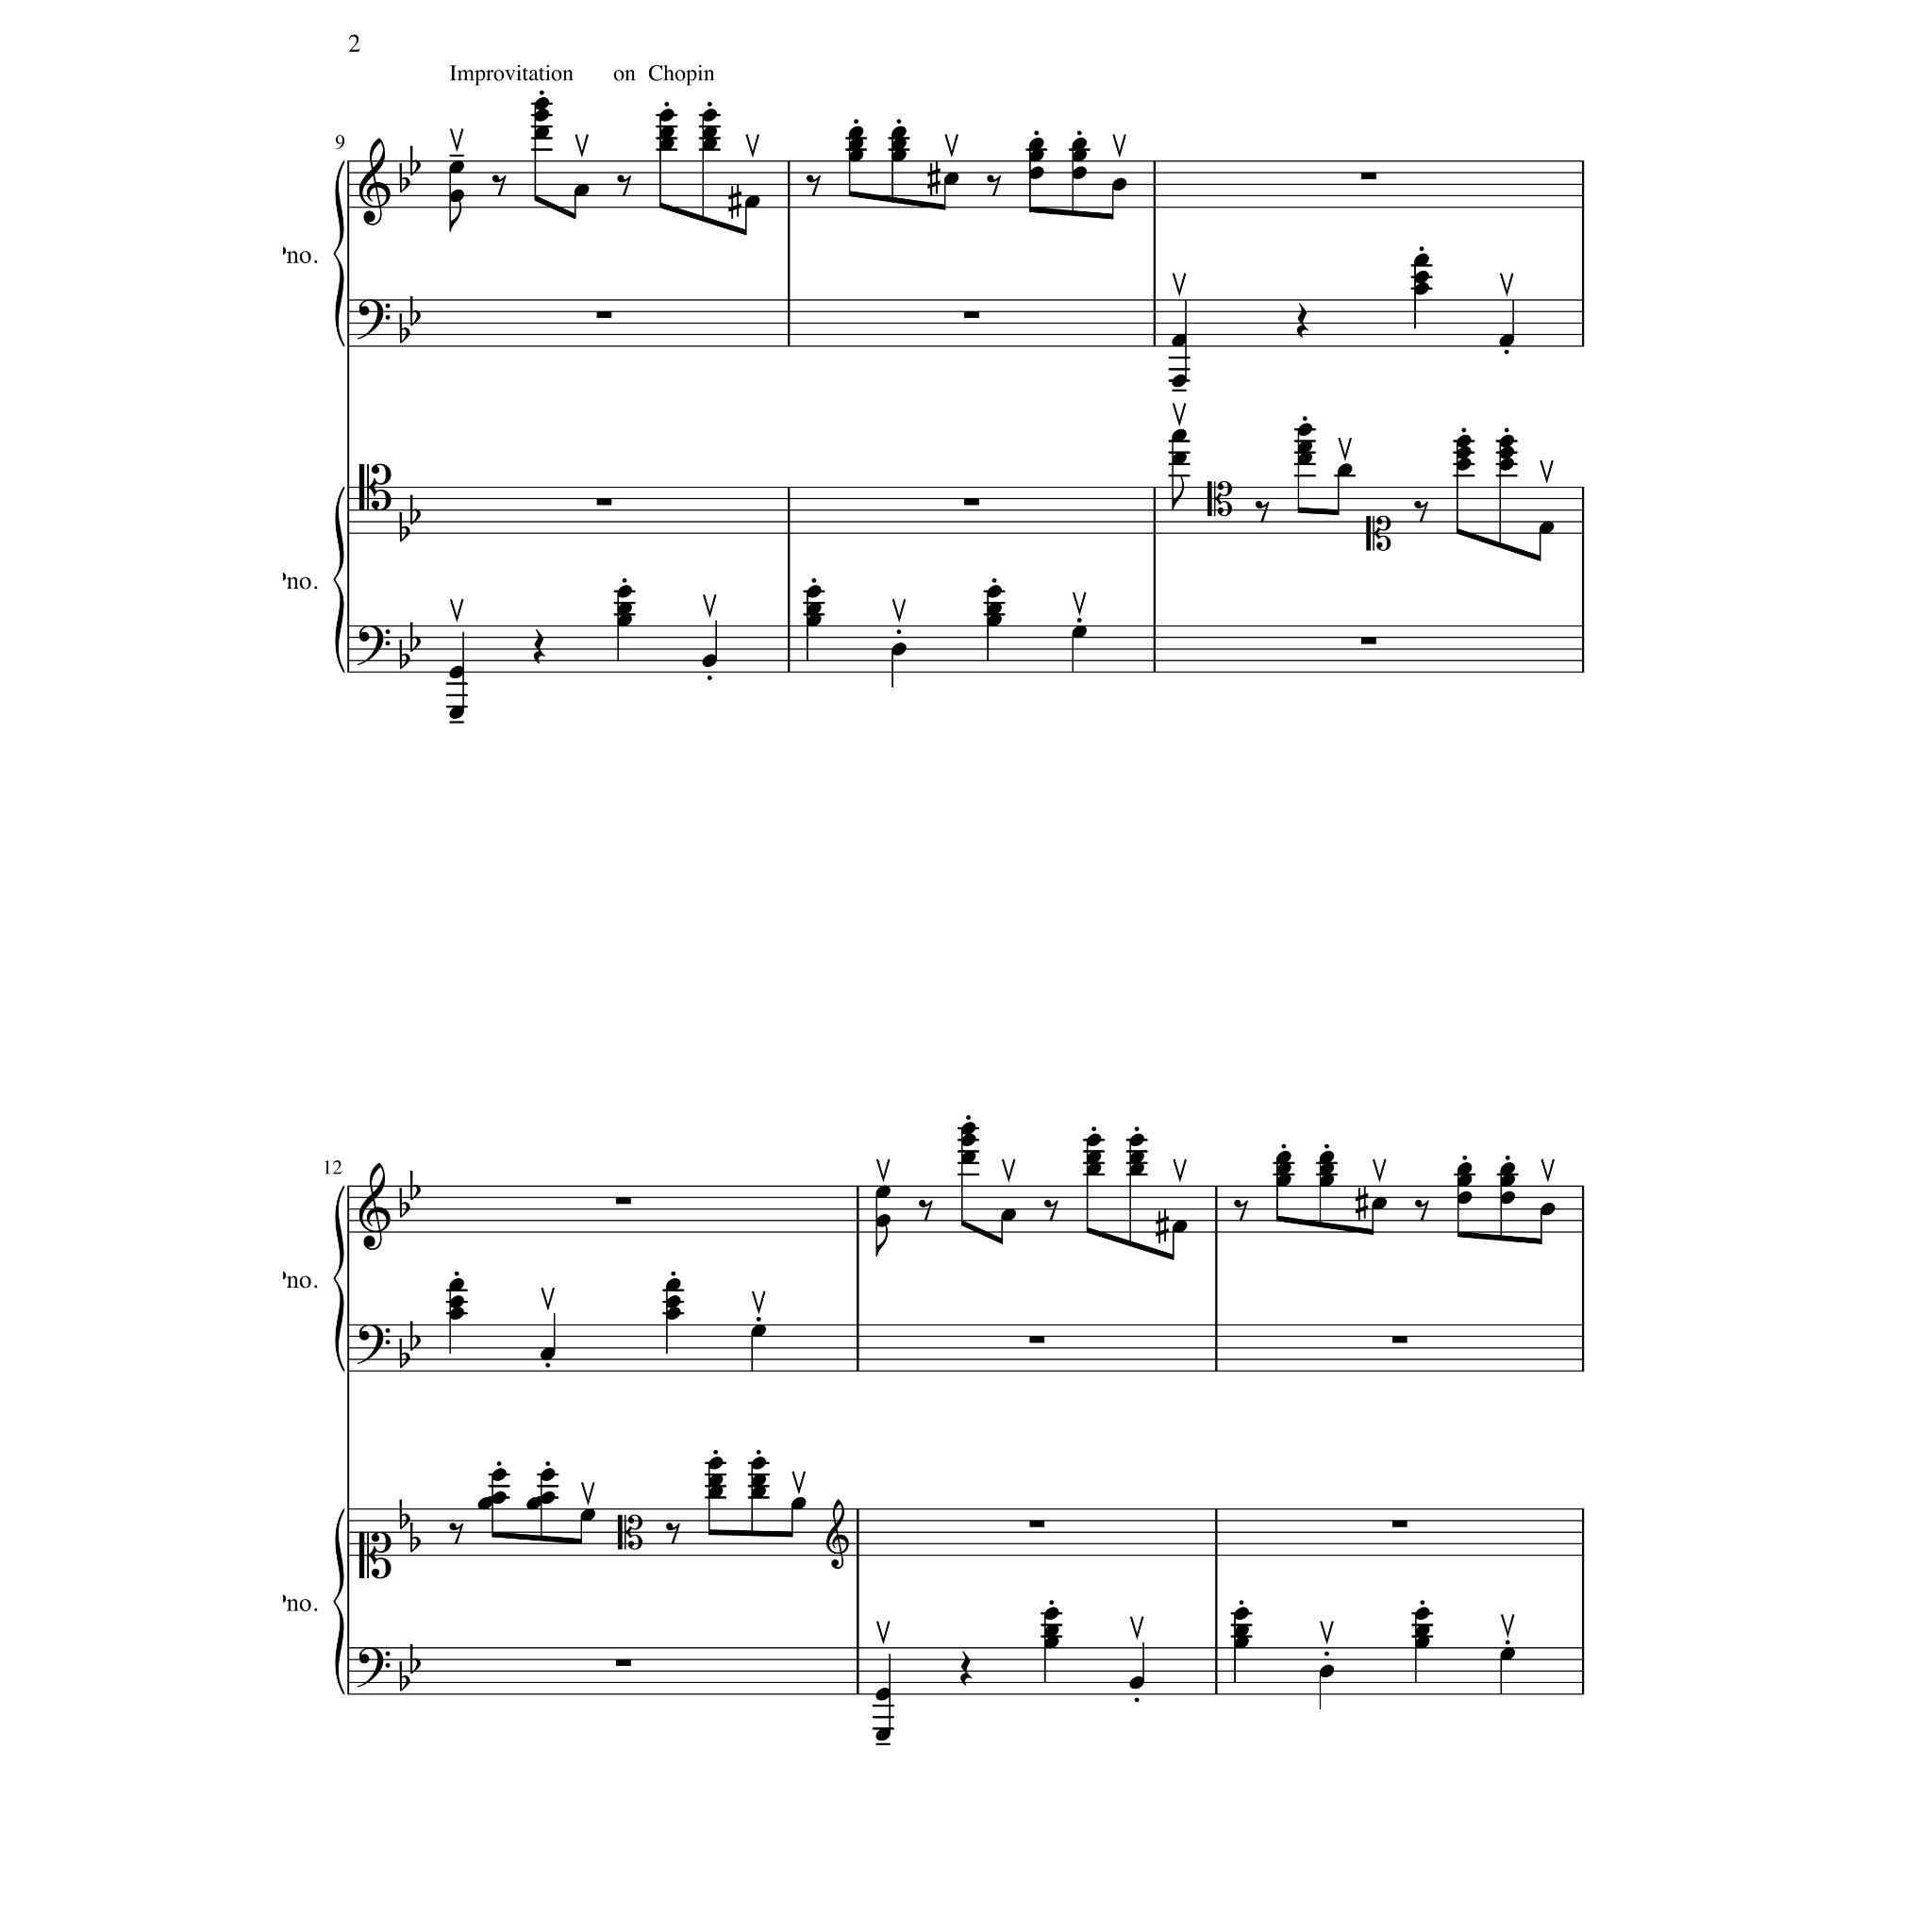brace: (333, 487, 345, 674), (333, 161, 345, 347), (333, 1509, 345, 1695), (333, 1185, 345, 1371)
fClef: (357, 299, 391, 340), (357, 625, 391, 665), (357, 1323, 391, 1364), (357, 1647, 391, 1688)
flag8thDown: (449, 198, 462, 232), (876, 1223, 888, 1256), (1173, 476, 1184, 510)
gClef: (359, 138, 391, 226), (359, 1162, 391, 1251)
noteheadBlack: (985, 584, 1003, 598), (985, 614, 1003, 628), (1070, 149, 1088, 163), (1070, 166, 1088, 180), (1454, 435, 1472, 449), (1454, 446, 1472, 460), (616, 584, 633, 598), (658, 126, 676, 140), (616, 614, 633, 628), (701, 655, 718, 669), (701, 126, 718, 140), (1042, 1624, 1060, 1638), (1042, 1606, 1060, 1621), (1171, 451, 1187, 465), (1028, 149, 1044, 163), (1028, 166, 1044, 180), (1499, 435, 1514, 449), (1499, 446, 1514, 460), (1336, 464, 1352, 478), (1414, 281, 1430, 295), (1297, 423, 1313, 437), (1297, 451, 1313, 465), (1414, 253, 1430, 267), (534, 126, 550, 140), (449, 665, 465, 679), (449, 161, 465, 175), (449, 189, 465, 203), (847, 149, 863, 163), (847, 126, 863, 140), (943, 172, 959, 186), (892, 126, 908, 140), (892, 149, 908, 163), (743, 195, 759, 209), (805, 584, 821, 598), (805, 614, 821, 628), (1233, 1606, 1249, 1621), (1233, 1624, 1249, 1638), (1276, 1173, 1292, 1187), (1171, 1219, 1187, 1233), (1500, 1173, 1516, 1187), (1500, 1191, 1516, 1205), (1371, 1196, 1387, 1210), (1318, 1173, 1334, 1187), (1458, 1173, 1474, 1187), (1458, 1191, 1474, 1205), (1415, 1606, 1431, 1621), (1415, 1624, 1431, 1638), (540, 1491, 556, 1506), (525, 1497, 541, 1511), (540, 1346, 556, 1361), (492, 1491, 508, 1506), (478, 1497, 494, 1511), (449, 1277, 465, 1292), (449, 1295, 465, 1309), (449, 1306, 465, 1320), (876, 1185, 892, 1200), (750, 1456, 766, 1470), (876, 1214, 892, 1228), (791, 1497, 807, 1511), (708, 1456, 724, 1470), (985, 603, 1003, 616), (1070, 626, 1088, 639), (1070, 138, 1088, 150), (1454, 458, 1472, 471), (658, 110, 676, 122), (658, 138, 676, 150), (616, 603, 633, 616), (701, 110, 718, 122), (701, 138, 718, 150), (1000, 1208, 1017, 1221), (1085, 1162, 1102, 1175), (1085, 1134, 1102, 1146), (1085, 1152, 1102, 1164), (1042, 1637, 1060, 1649), (665, 1295, 679, 1309), (665, 1277, 679, 1292), (665, 1306, 679, 1320), (1171, 430, 1187, 442), (1171, 334, 1187, 347), (1171, 375, 1187, 387), (1028, 138, 1044, 150), (1111, 179, 1127, 191), (1537, 522, 1553, 534), (1499, 458, 1514, 471), (1499, 334, 1514, 347), (1297, 441, 1313, 453), (1414, 271, 1430, 283), (534, 97, 550, 110), (534, 110, 550, 122), (573, 184, 589, 196), (449, 706, 465, 718), (847, 138, 863, 150), (892, 644, 908, 656), (892, 138, 908, 150), (805, 603, 821, 616), (1233, 1637, 1249, 1649), (1276, 1152, 1292, 1164), (1276, 1162, 1292, 1175), (1129, 1162, 1145, 1175), (1129, 1152, 1145, 1164), (1129, 1677, 1145, 1690), (1129, 1134, 1145, 1146), (1539, 1203, 1555, 1215), (1500, 1647, 1516, 1660), (1500, 1162, 1516, 1175), (1318, 1665, 1334, 1677), (1318, 1152, 1334, 1164), (1318, 1162, 1334, 1175), (1458, 1162, 1474, 1175), (1415, 1637, 1431, 1649), (540, 1468, 556, 1481), (492, 1468, 508, 1481), (580, 1509, 596, 1522), (876, 1729, 892, 1741), (961, 1152, 977, 1164), (961, 1122, 977, 1134), (961, 1134, 977, 1146), (876, 1688, 892, 1700), (750, 1474, 766, 1486), (750, 1486, 766, 1499), (750, 1325, 766, 1338), (708, 1486, 724, 1499), (708, 1474, 724, 1486)
rest8th: (1254, 501, 1270, 524), (985, 175, 1001, 196), (805, 175, 821, 196), (1414, 1200, 1430, 1221), (448, 1523, 464, 1545), (1414, 501, 1428, 524), (492, 175, 506, 196), (617, 175, 632, 196), (1233, 1200, 1247, 1221), (1044, 1200, 1058, 1221), (665, 1523, 679, 1545), (918, 1200, 932, 1221)
restQuarter: (1297, 303, 1309, 338), (534, 628, 545, 663), (961, 1651, 971, 1686)
restWhole: (1028, 1336, 1046, 1343), (1028, 1522, 1046, 1529), (964, 311, 980, 318), (964, 499, 980, 506), (1361, 637, 1376, 644), (1361, 173, 1376, 180), (596, 499, 612, 506), (596, 311, 612, 318), (1391, 1522, 1407, 1529), (1391, 1336, 1407, 1343), (614, 1660, 630, 1667), (614, 1198, 630, 1205)
